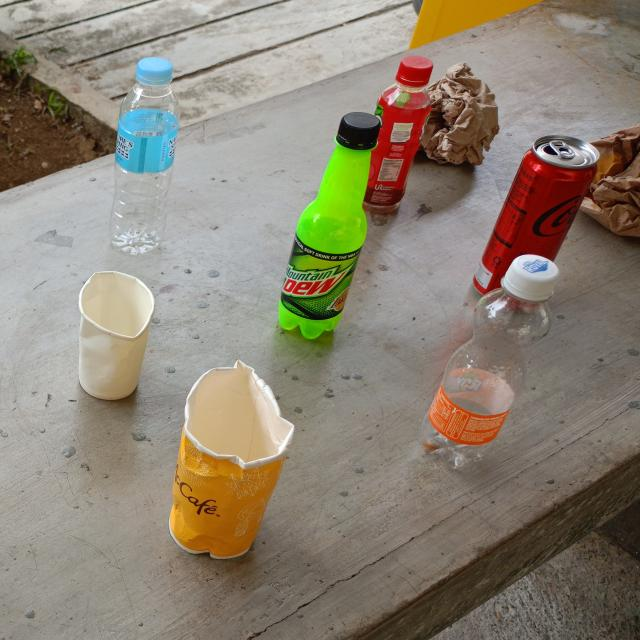Anorganik: (416, 246, 568, 474), (273, 107, 388, 344), (469, 130, 605, 318), (103, 51, 185, 260), (358, 51, 436, 219)
Organik: (160, 348, 306, 568), (61, 264, 161, 412), (415, 56, 506, 174), (571, 116, 640, 244)
